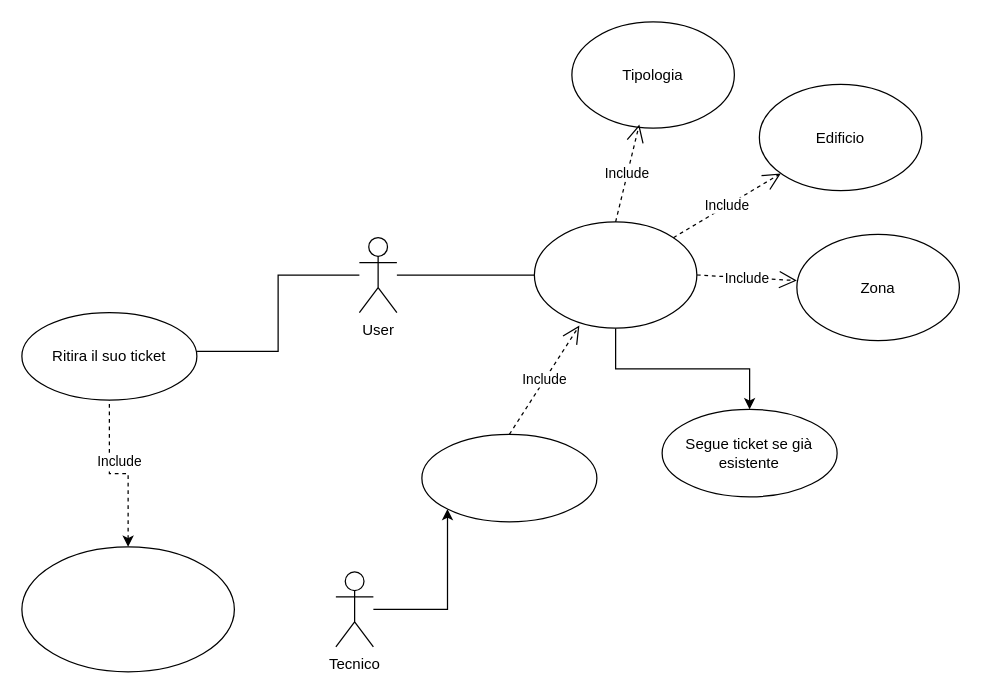
The diagram is 981 pixels wide and 695 high, and some of its shapes have lost their labels. Each missing label, with the box of its shape:
Check se ticket non è gia programmato, in svolgimento o finito.: (21, 546, 234, 672)
Crea ticket di manutenzione programmata: (421, 433, 597, 522)
Creare ticket: (533, 221, 697, 328)
